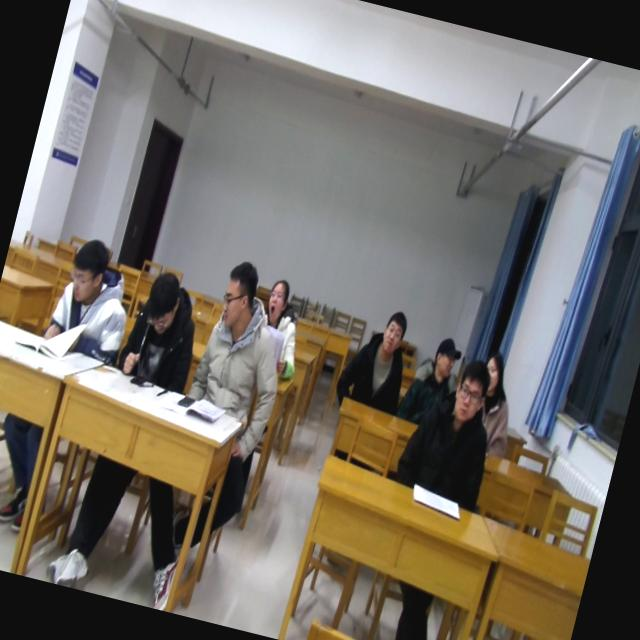down: (59, 227, 118, 311), (134, 261, 190, 341)
lookup: (446, 353, 494, 427), (258, 271, 293, 332), (375, 302, 412, 359), (474, 346, 513, 399)
sit: (182, 254, 308, 424), (390, 346, 512, 512), (40, 231, 146, 365), (114, 264, 212, 392), (328, 298, 421, 420), (394, 328, 472, 432), (246, 272, 318, 381), (461, 347, 530, 460)
